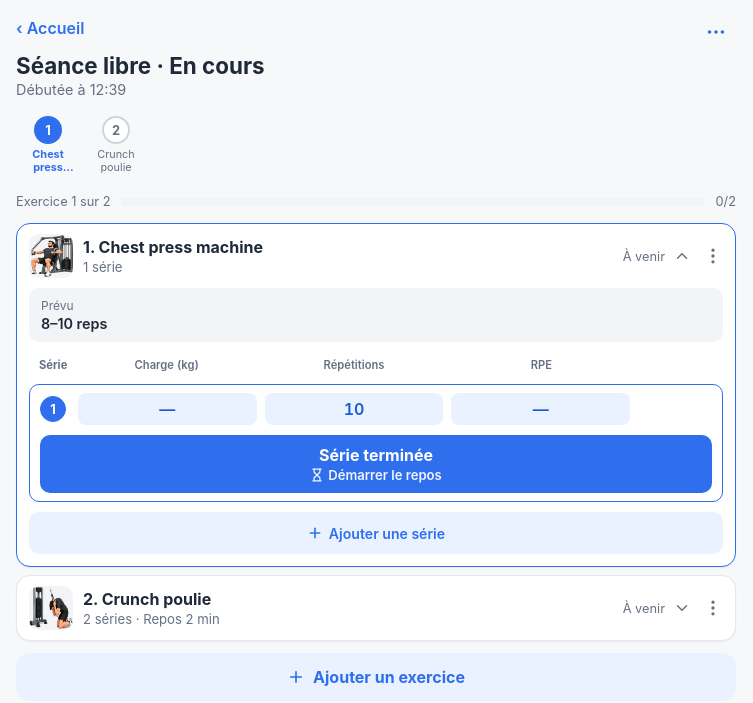
Scenario: repos depuis la fin de série, à l'écran › dernière série : repos prévu conservé ; après « Enregistrer », le chrono passe au-dessus de la série 1 de l'exercice suivant, avec « Ensuite »
The width and height of the screenshot is (753, 703).
Click the button "Série terminée Démarrer le repos" at point(376, 464), box [40,435,712,493]
(page scrolled)
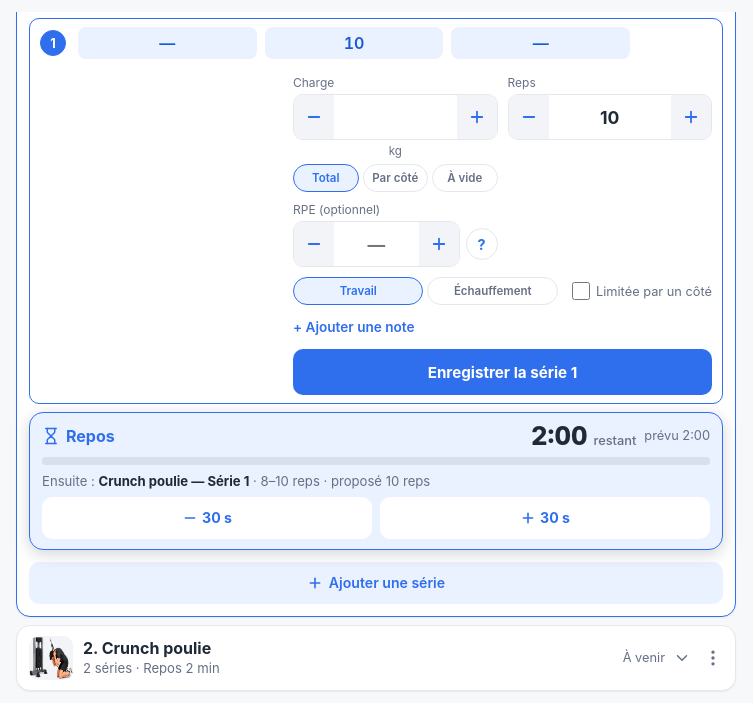
Result: the number of list items with class "wseries__rest-slot" is 1 at [29,410,723,552]
Result: the element with class "rest-card__next-line" shows "Crunch poulie" at [98,473,249,489]
Click the button "Enregistrer la série 1" at point(502, 372), box [293,349,712,395]
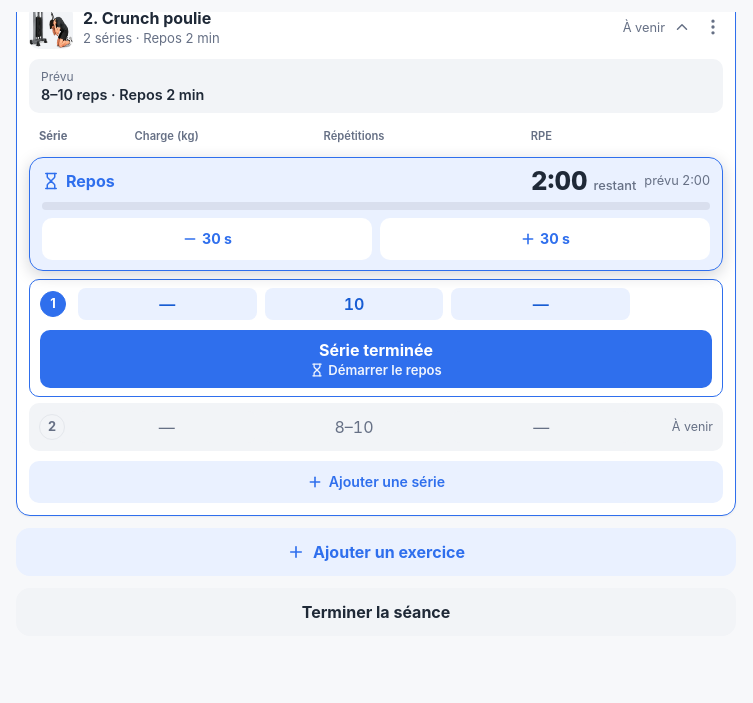
Result: the number of list items with class "wseries__rest-slot" is 1 at [29,155,723,273]
Result: the button with class "wseries__end" is shown at [40,330,712,388]
Result: the element with class "rest-card__next-line" is gone
